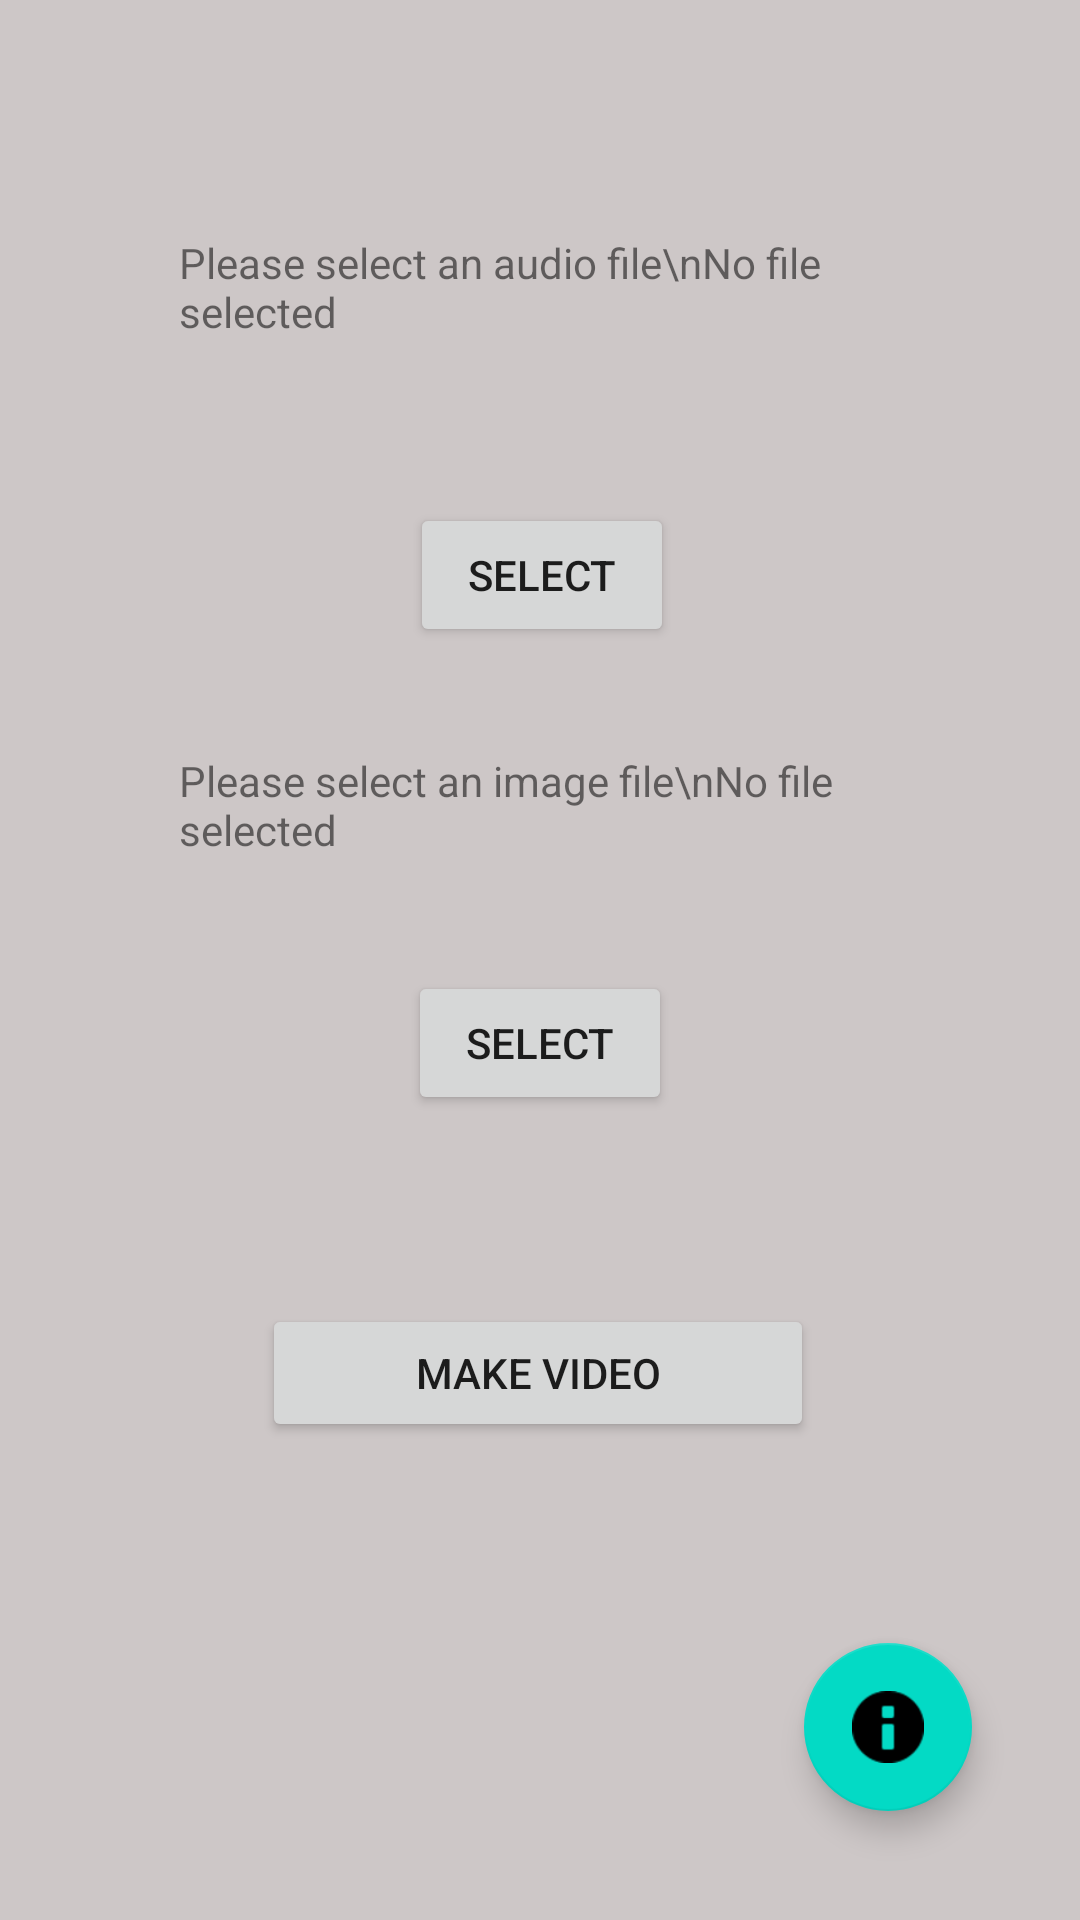

Point at icon controls on the screen. Image size 1080x1920, points as (x,y).
info: (888,1727)
